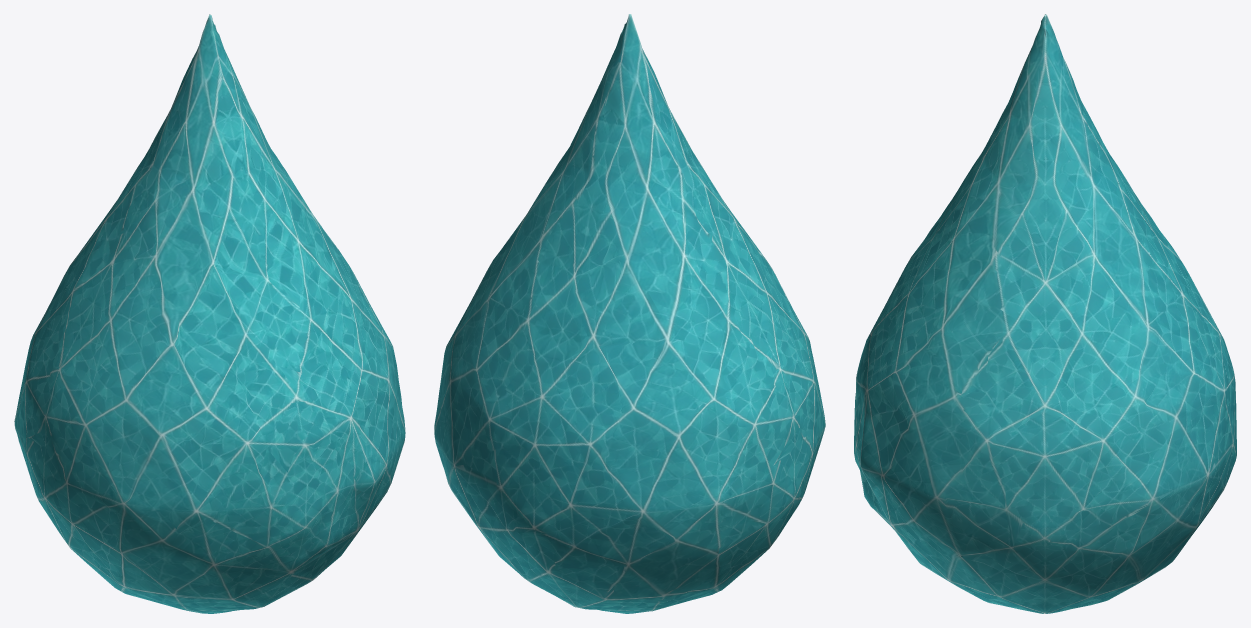
Rendered from GotaLowPoly.fbx.
The picture shows the model from 3 angles, left to right: view 1: azimuth 30°, elevation 25°; view 2: azimuth 150°, elevation 25°; view 3: azimuth 270°, elevation 25°; orthographic projection.
Parts seen in each view (by area): view 1: LowPoly; view 2: LowPoly; view 3: LowPoly.
Boxes of the visible parts, box(x1,y1,x2,y2) form: LowPoly: box(14, 14, 405, 613); LowPoly: box(434, 14, 825, 613); LowPoly: box(854, 14, 1236, 613).
Size of the model in its own units: 110 by 189 by 110.
1 material, 1 textured.
